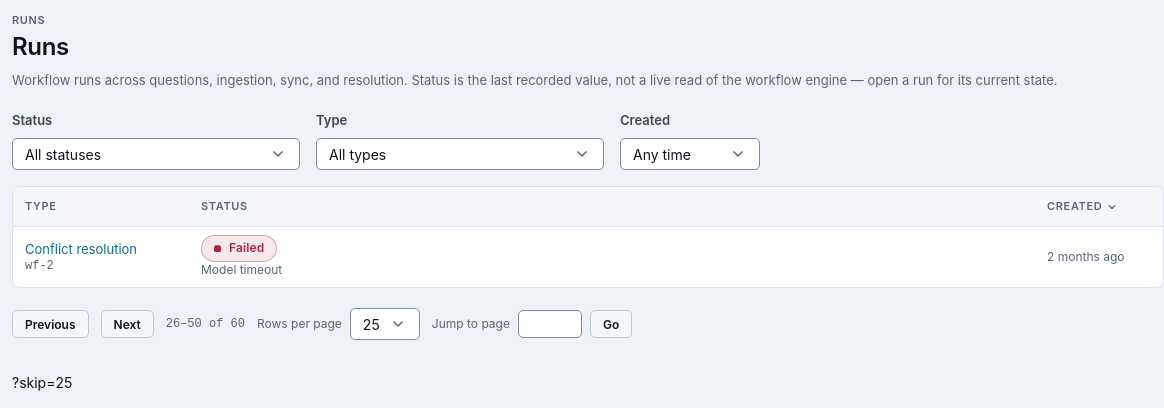
Scenario: RunsPage › changing the page size issues the new limit and resets skip to the first page
The width and height of the screenshot is (1164, 408).
Expected: the link "Conflict resolution" is shown, [25,241,137,257]
Select "50" in the dropdown labelled "Rows per page" at (385,324), box [350,308,420,340]
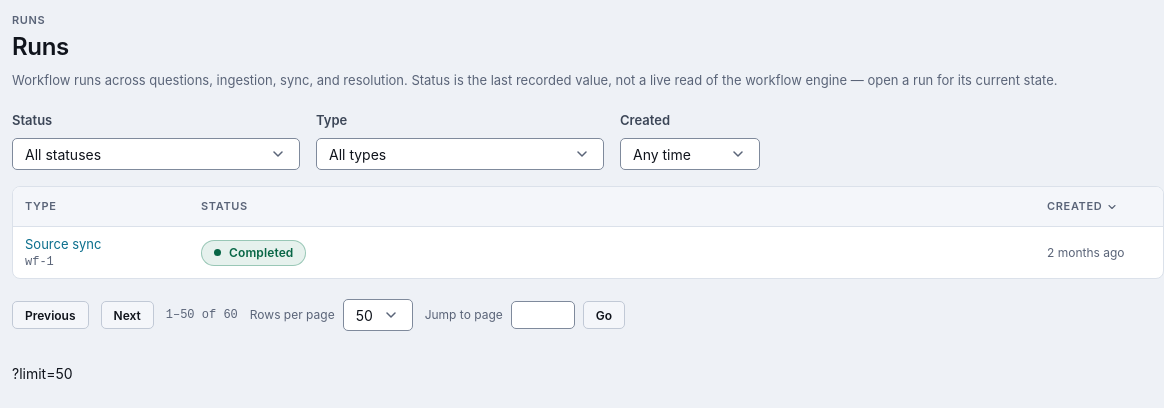
Expected: the link "Source sync" is shown, [25,236,102,252]
